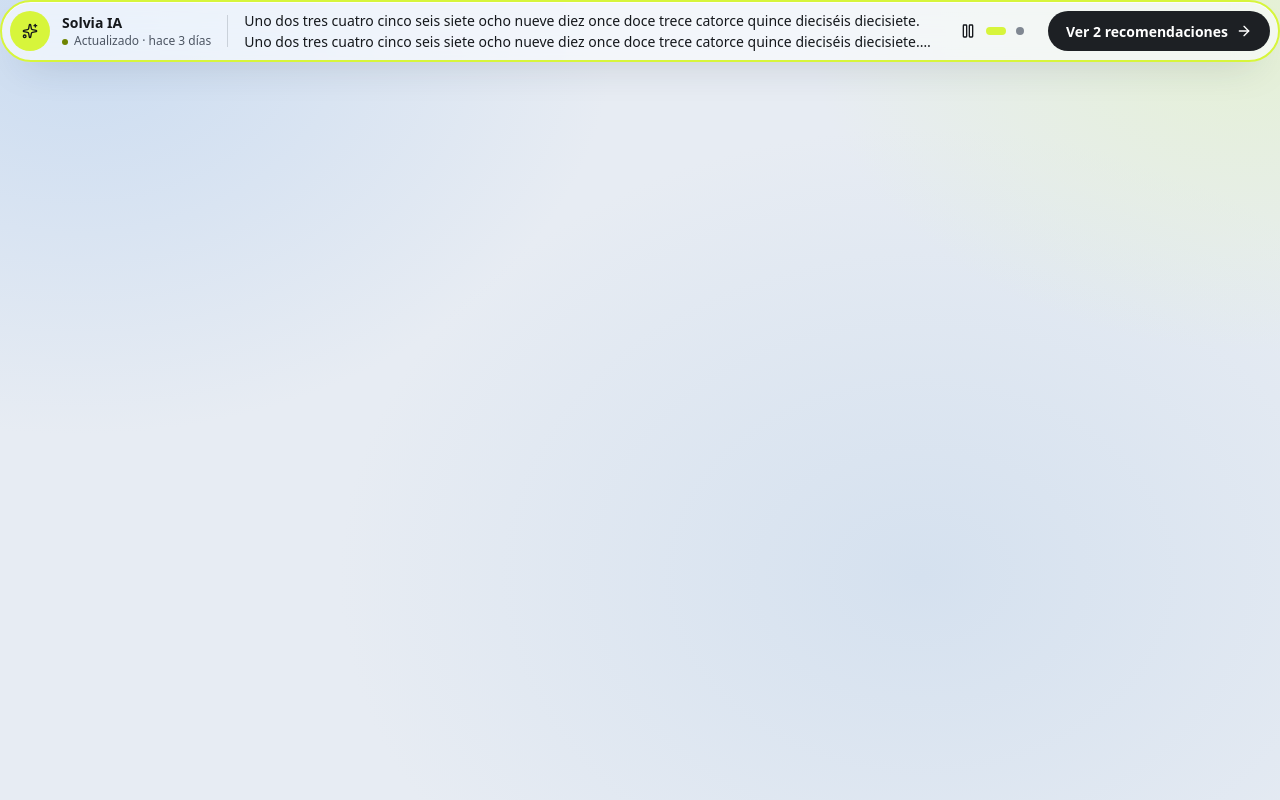
Test: banner de IA en el panel › recorta el titular de respaldo a 15 palabras y ofrece «Ver más» en resúmenes largos
This screenshot has width=1280, height=800.
Click the button "Ver 2 recomendaciones". click: (1159,31)
box: [1048,11,1270,51]
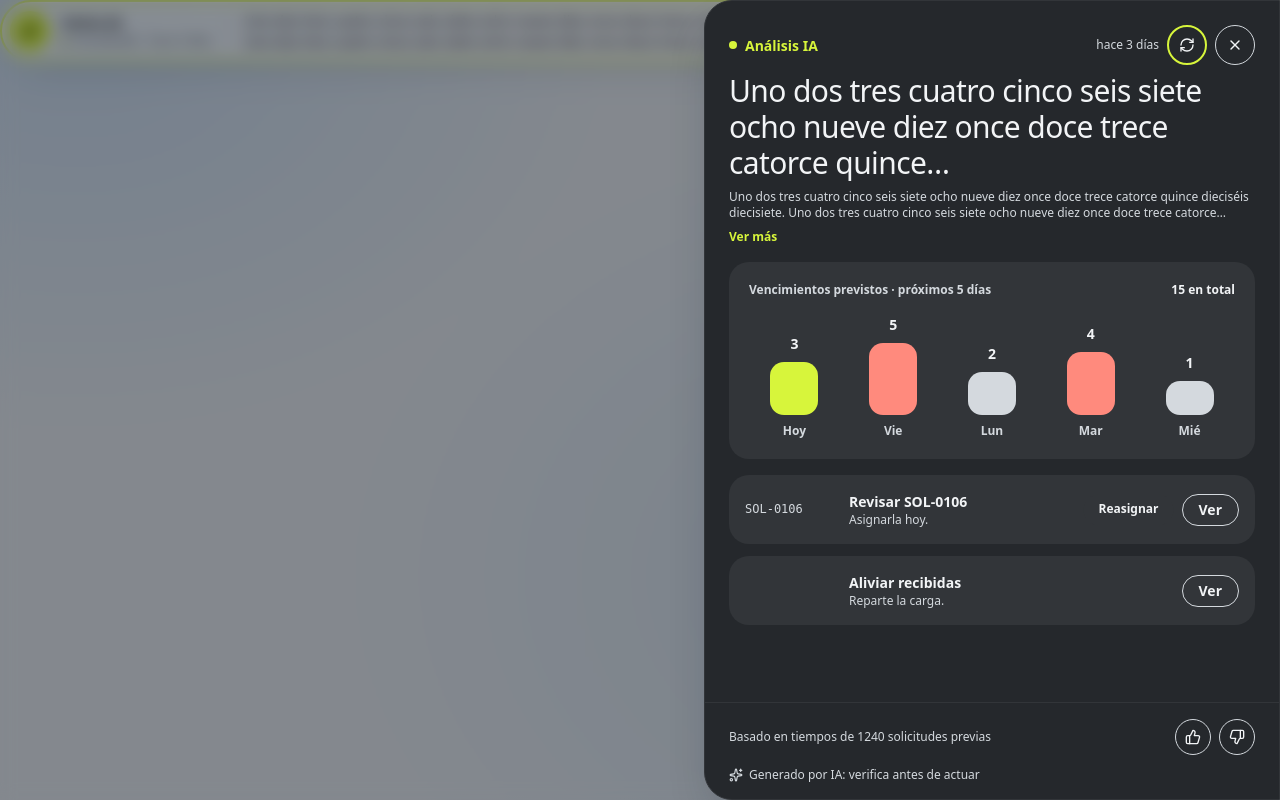
Result: the text with test id "overview-headline" shows "Uno dos tres cuatro cinco seis siete ocho nueve diez once doce trece catorce quince…" at [729,73,1202,183]
Click the button "Ver más". click: (753,238)
box: [729,229,777,246]
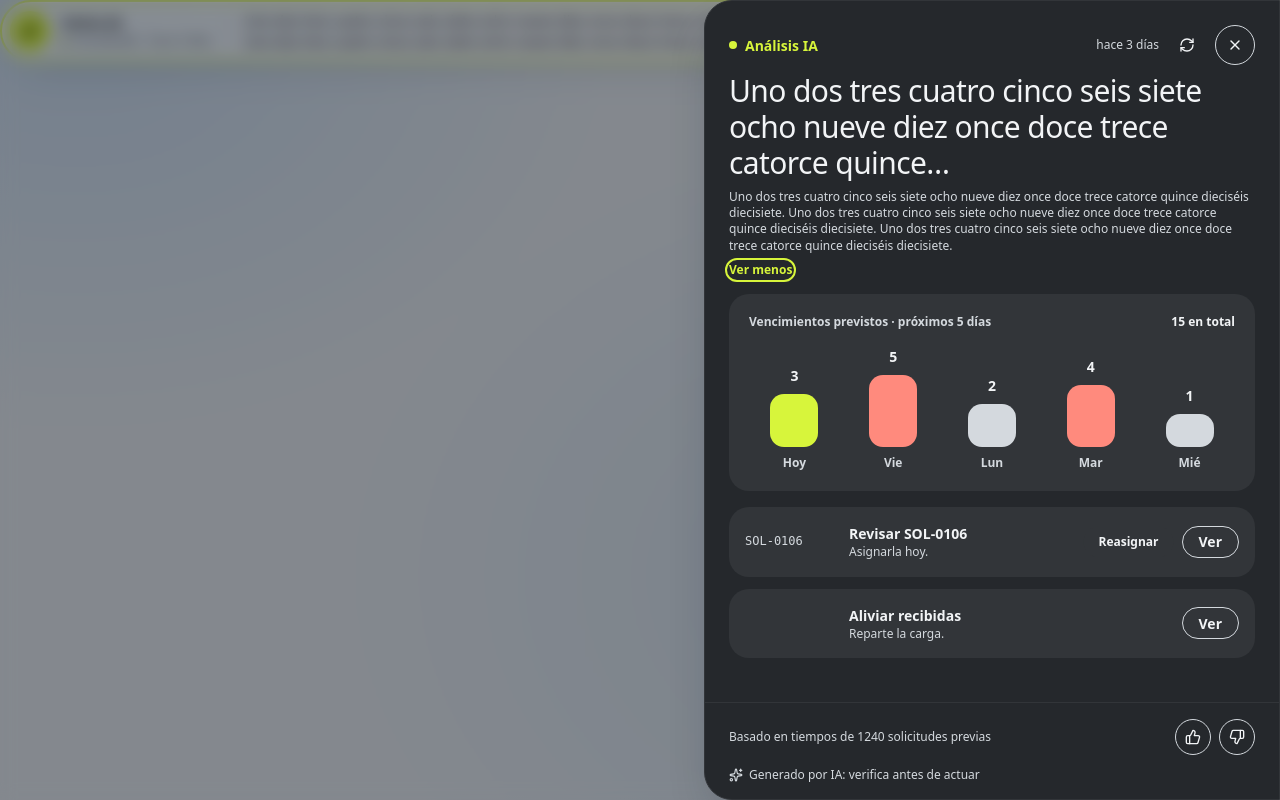
Result: the button named "Ver más" is expanded at [729,262,792,278]
